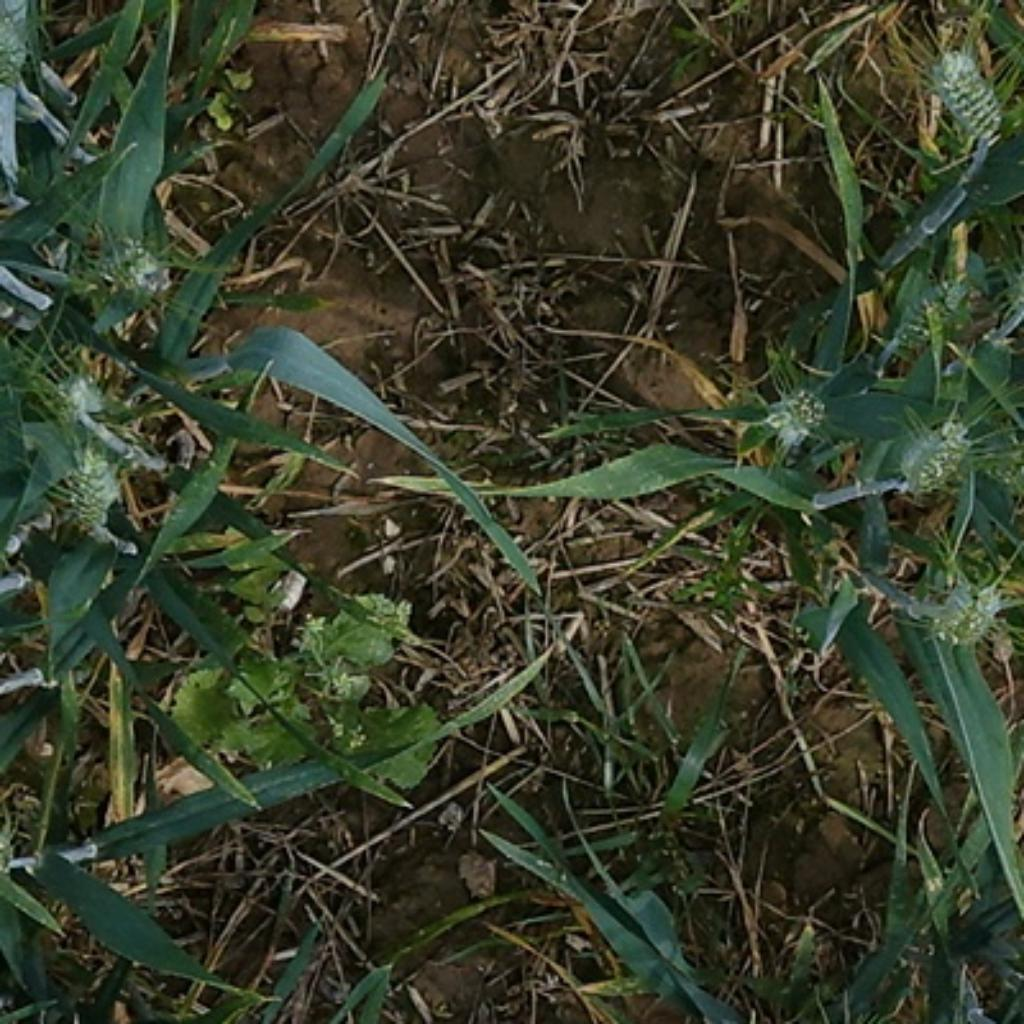0-0: (877, 275, 974, 367), (926, 48, 1011, 145), (76, 222, 170, 306), (43, 458, 133, 545), (898, 415, 981, 499), (918, 586, 1003, 649), (766, 390, 828, 445), (48, 365, 110, 419)
